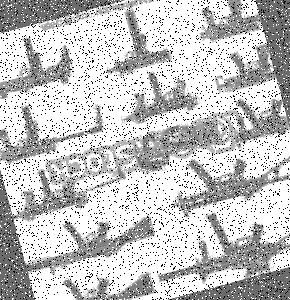SMG: (151, 192, 290, 300), (160, 135, 290, 221), (0, 85, 112, 171), (113, 63, 203, 133), (0, 30, 79, 109), (92, 3, 173, 80), (206, 38, 277, 100), (226, 89, 290, 149), (189, 0, 264, 49)
rifle: (18, 196, 160, 282), (32, 256, 157, 300)
